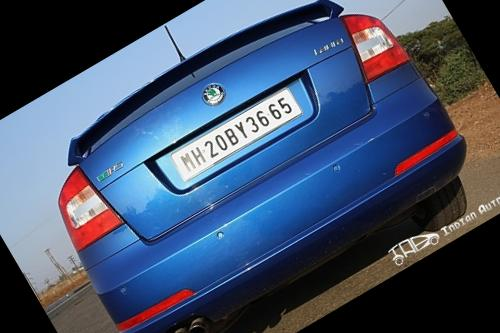plate: (145, 58, 335, 206)
